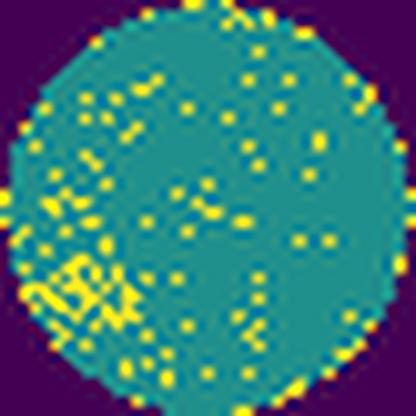Loc: (20, 254, 144, 330)
